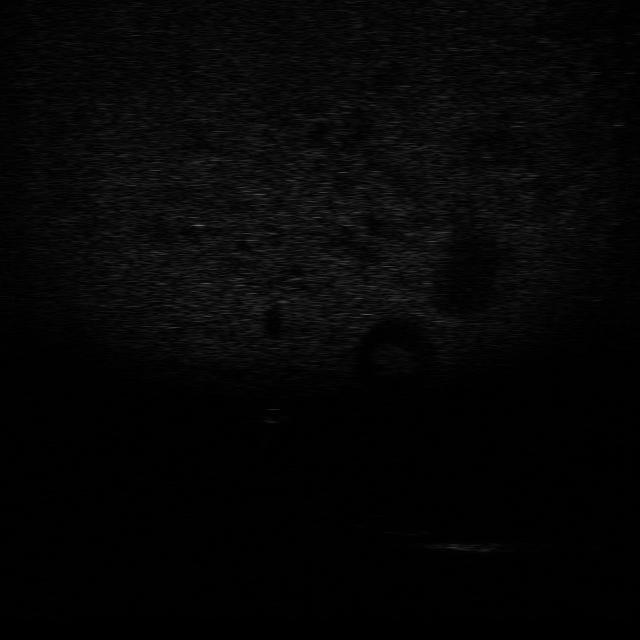ball: (258, 405, 292, 424)
metal bucket: (423, 537, 522, 558)
tyre: (354, 515, 430, 538)
